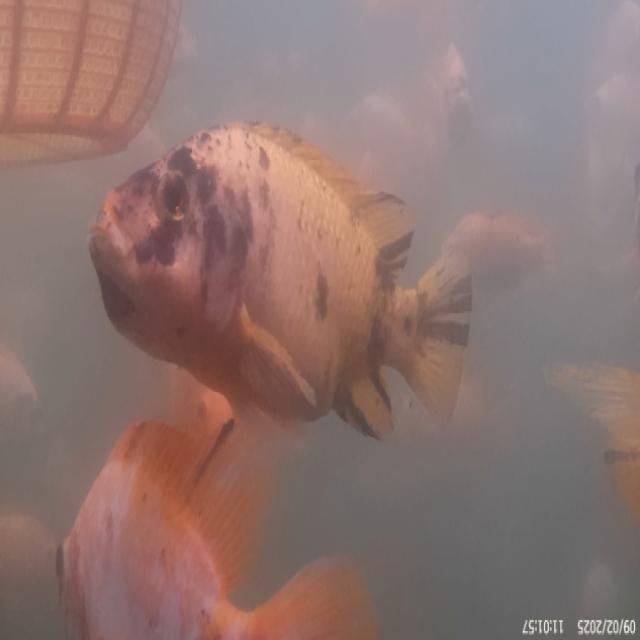ikan: (87, 117, 474, 442), (54, 415, 380, 638)
